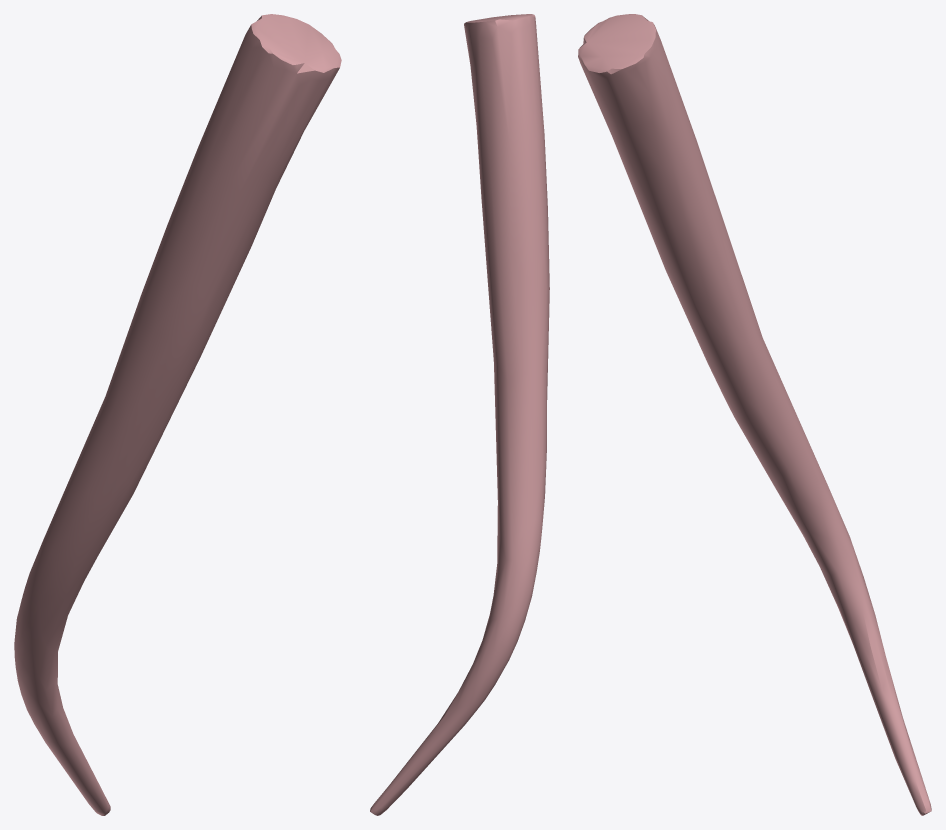
Rendered from fma68591_fj6562.glb.
The picture shows the model from 3 angles, left to right: view 1: azimuth 30°, elevation 25°; view 2: azimuth 150°, elevation 25°; view 3: azimuth 270°, elevation 25°; orthographic projection. The views are drawn at different scales.
Visible parts, largest first — view 1: FMA68591_FJ6562; view 2: FMA68591_FJ6562; view 3: FMA68591_FJ6562.
Part boxes in pixels (x1,y1,x2,y2): FMA68591_FJ6562: (14,14,341,815); FMA68591_FJ6562: (370,14,549,815); FMA68591_FJ6562: (578,14,931,815).
Bounding box in the file's own units: 0.0199 × 0.0889 × 0.0358.
